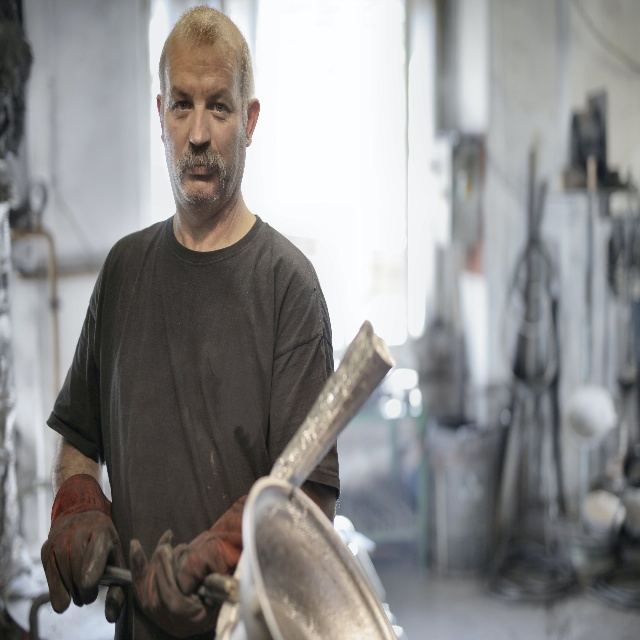Guantes: (129, 512, 238, 640), (41, 473, 129, 624)
